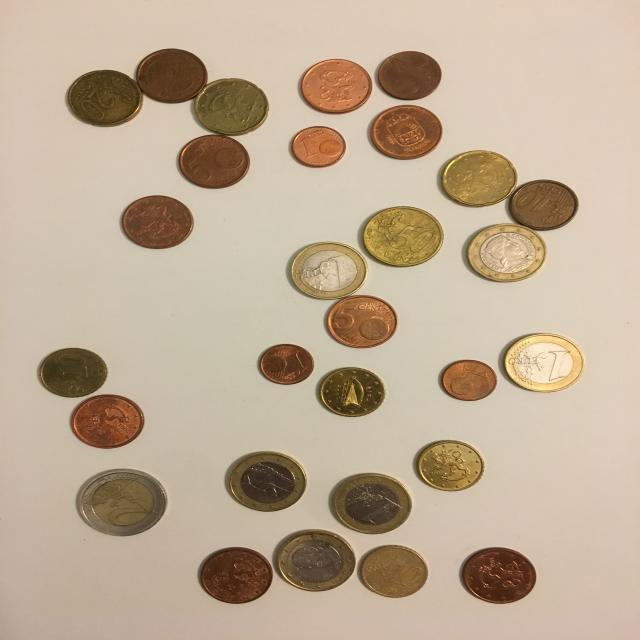10c: (414, 438, 486, 493), (356, 544, 429, 598), (38, 346, 110, 398), (509, 180, 581, 231), (318, 366, 388, 418)
1c: (258, 342, 318, 386), (440, 357, 498, 402), (288, 125, 348, 168)
1e: (224, 450, 308, 512), (500, 332, 586, 392), (462, 222, 548, 282), (274, 531, 358, 592), (330, 474, 412, 536), (286, 240, 368, 300)
20c: (65, 68, 145, 126), (438, 150, 516, 206), (194, 77, 268, 135)
2c: (377, 50, 444, 100)
2e: (74, 468, 168, 538)
50c: (360, 205, 446, 268)
5c: (459, 546, 537, 606), (195, 546, 274, 604), (70, 392, 146, 450), (368, 103, 444, 159), (135, 47, 211, 103), (299, 58, 374, 113), (119, 193, 194, 248), (177, 134, 251, 189), (325, 296, 398, 350)
